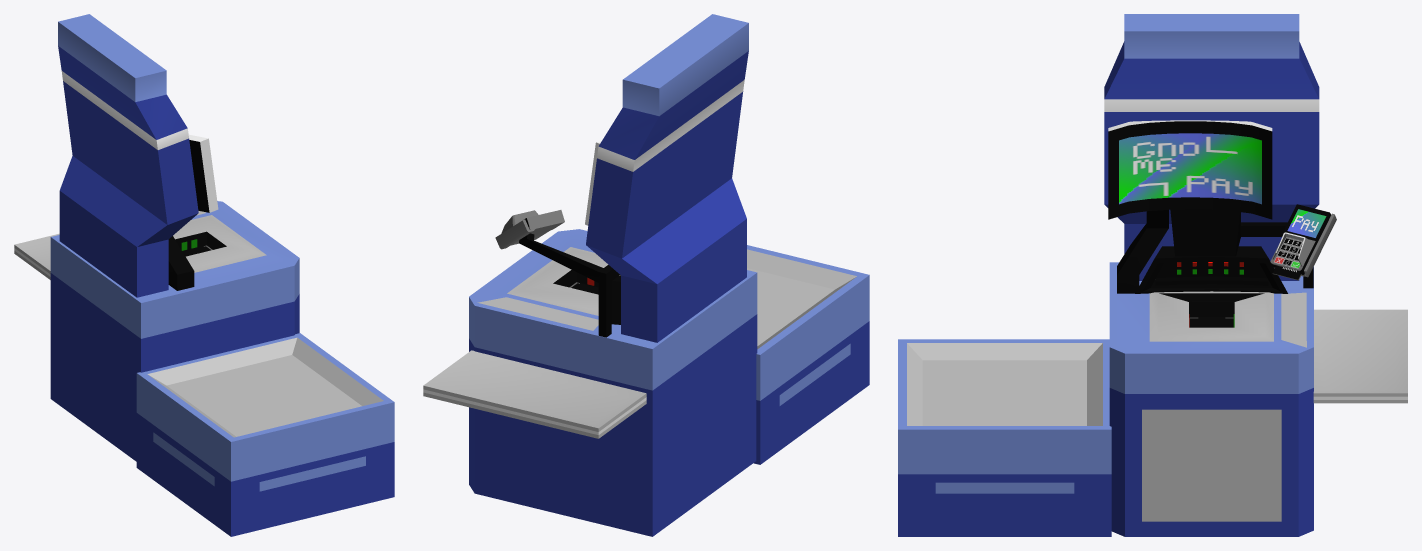
The model's file is Shop.fbx.
The picture shows the model from 3 angles, left to right: view 1: azimuth 30°, elevation 25°; view 2: azimuth 150°, elevation 25°; view 3: azimuth 270°, elevation 25°; orthographic projection. The views are drawn at different scales.
Visible parts, largest first — view 1: Shop; view 2: Shop; view 3: Shop.
Boxes of the visible parts, x1,y1,x2,y2 form: Shop: (14, 14, 394, 536); Shop: (423, 14, 869, 536); Shop: (898, 14, 1407, 536).
Size of the model in its own units: 216 by 469 by 499.
